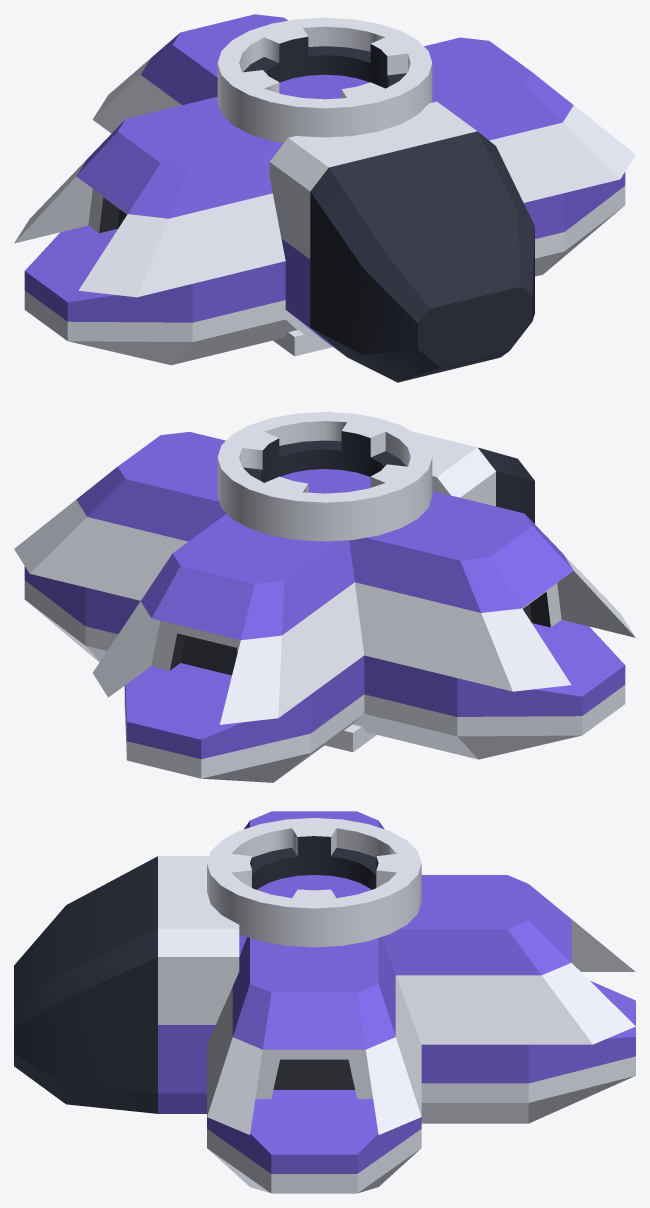
Rendered from Saucer.fbx.
3 renders of one model, top to bottom at view 1: azimuth 30°, elevation 25°; view 2: azimuth 150°, elevation 25°; view 3: azimuth 270°, elevation 25°, orthographic.
Visible parts, largest first — view 1: mergedBlocks; view 2: mergedBlocks; view 3: mergedBlocks.
Part boxes in pixels (box(x1,y1,x2,y2)): mergedBlocks: box(14, 14, 635, 382); mergedBlocks: box(14, 411, 635, 782); mergedBlocks: box(14, 811, 635, 1193).
Bounding box in the file's own units: 30 × 12.5 × 29.
